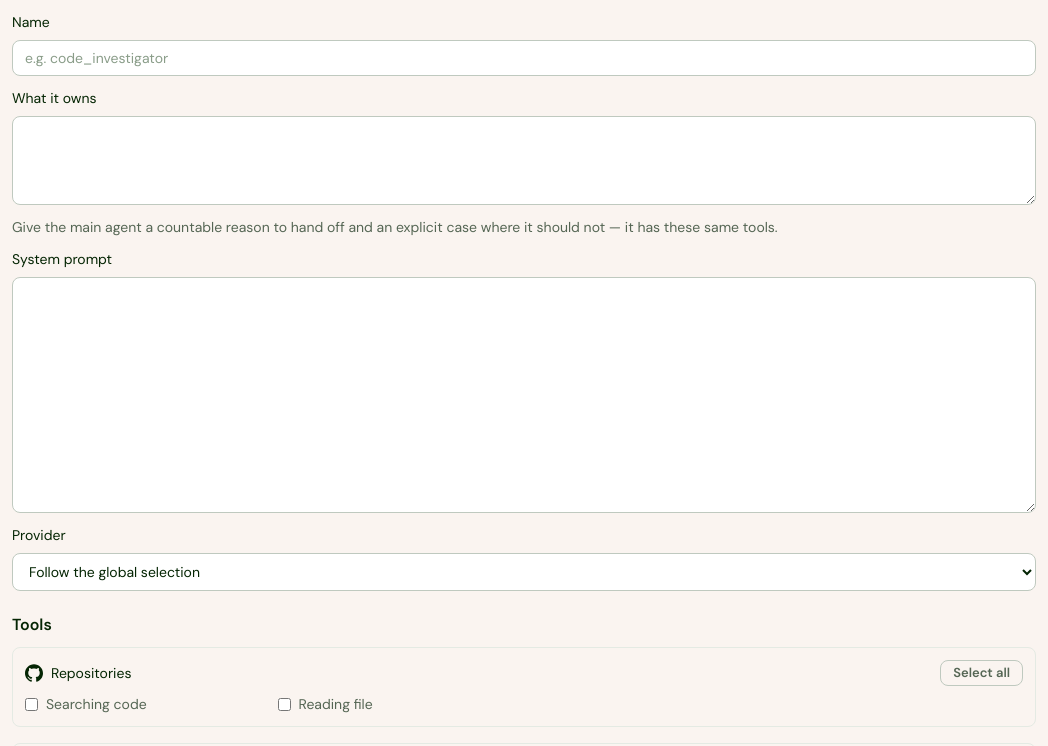
Test: SubagentForm › explains an invalid name instead of silently refusing to save
Type "a" into the field labelled "Name".
click(524, 58); type("a")  # box [12, 40, 1036, 76]
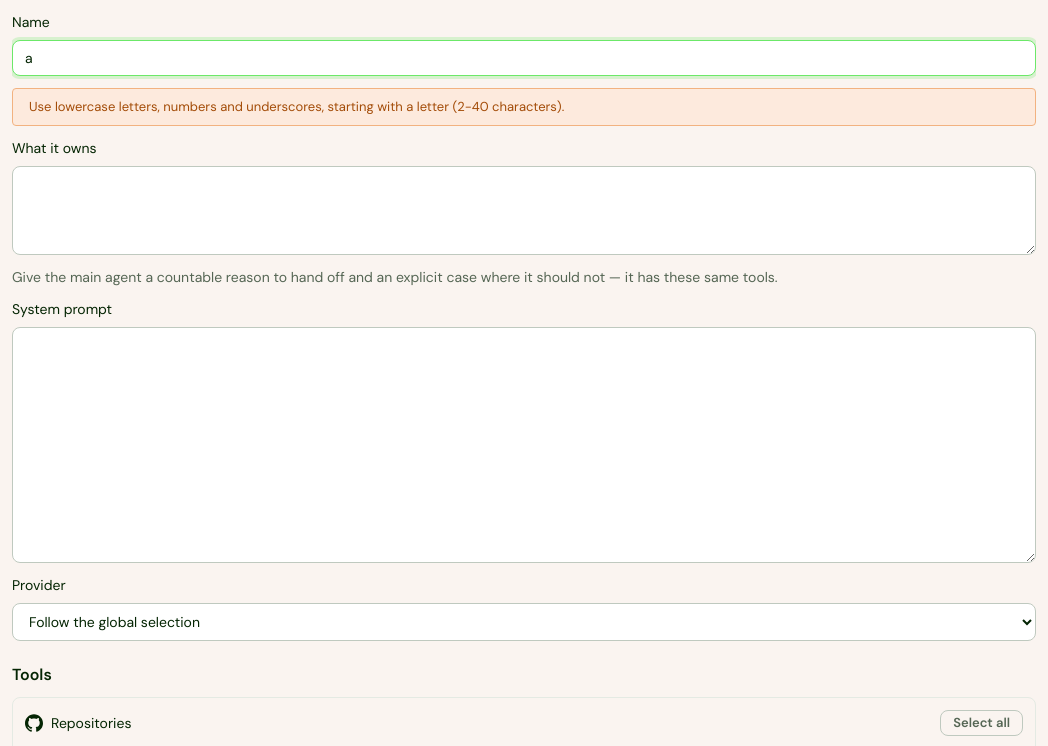
Check: the text "lowercase letters, numbers and underscores" is shown, box [29, 98, 472, 115]
